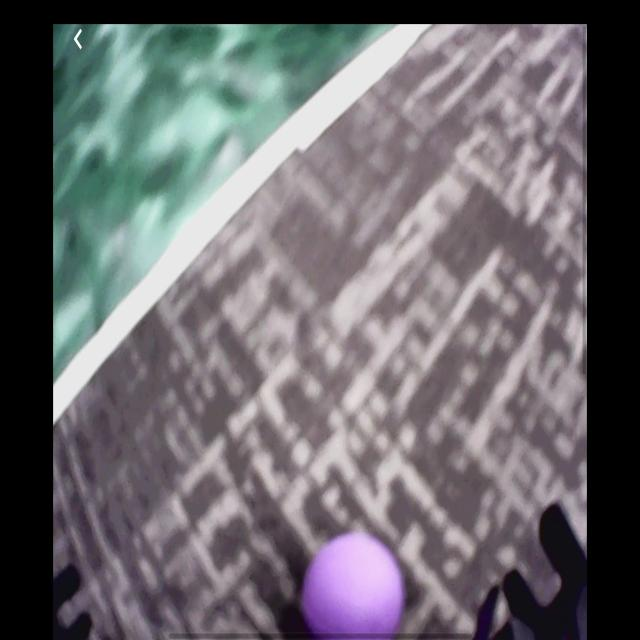ball: (303, 533, 406, 639)
